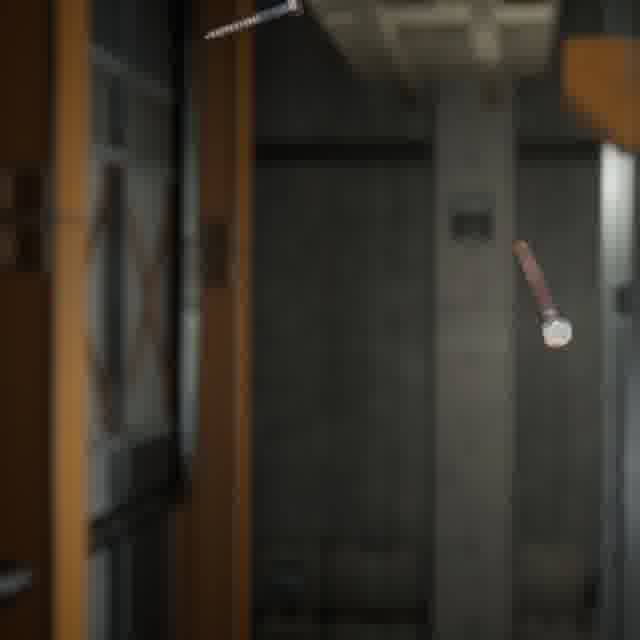bolt: (509, 236, 577, 352), (199, 0, 308, 44)
